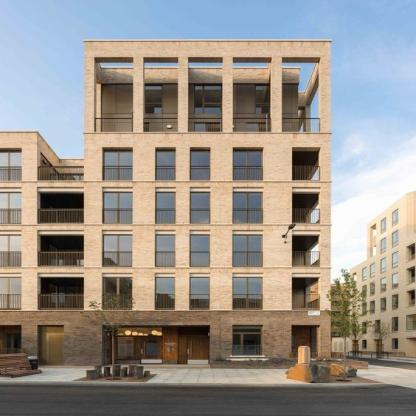Balcony: (95, 118, 320, 132), (37, 294, 84, 310), (37, 166, 84, 181), (37, 208, 84, 223), (37, 251, 84, 266), (292, 294, 322, 310), (292, 251, 322, 267), (292, 209, 322, 224), (292, 166, 322, 181)
Building Outline: (0, 39, 332, 369)
Door: (102, 325, 209, 368), (187, 336, 208, 364), (142, 336, 162, 364), (47, 333, 64, 365), (194, 122, 222, 140), (246, 122, 270, 140), (138, 122, 149, 140)
Facade: (0, 39, 332, 369)
Floor Slab: (0, 181, 331, 187), (0, 310, 330, 316), (0, 224, 330, 229), (84, 134, 331, 140), (0, 268, 330, 272)
Glass Wall: (37, 273, 84, 310), (36, 230, 84, 266), (37, 188, 84, 224), (291, 325, 321, 362), (292, 230, 322, 267), (292, 273, 322, 310), (292, 188, 322, 224), (233, 277, 263, 310), (233, 235, 263, 268), (233, 148, 263, 181), (292, 147, 322, 180), (102, 148, 132, 181), (102, 277, 132, 310), (102, 235, 132, 268), (102, 191, 132, 224), (233, 192, 263, 223), (194, 84, 222, 113), (0, 147, 21, 180), (0, 277, 21, 310), (0, 234, 21, 267), (0, 191, 21, 223), (191, 148, 210, 181), (191, 277, 210, 310), (156, 277, 175, 310), (191, 235, 210, 268), (156, 235, 175, 268), (156, 148, 175, 181), (156, 191, 175, 223), (191, 192, 210, 223), (145, 84, 162, 113), (255, 84, 271, 113)
Window: (95, 57, 134, 132), (232, 57, 271, 132), (282, 57, 320, 132), (143, 57, 178, 132), (188, 57, 223, 132), (39, 325, 65, 365), (233, 326, 263, 356), (0, 325, 22, 365), (118, 337, 135, 358), (117, 328, 162, 335)
